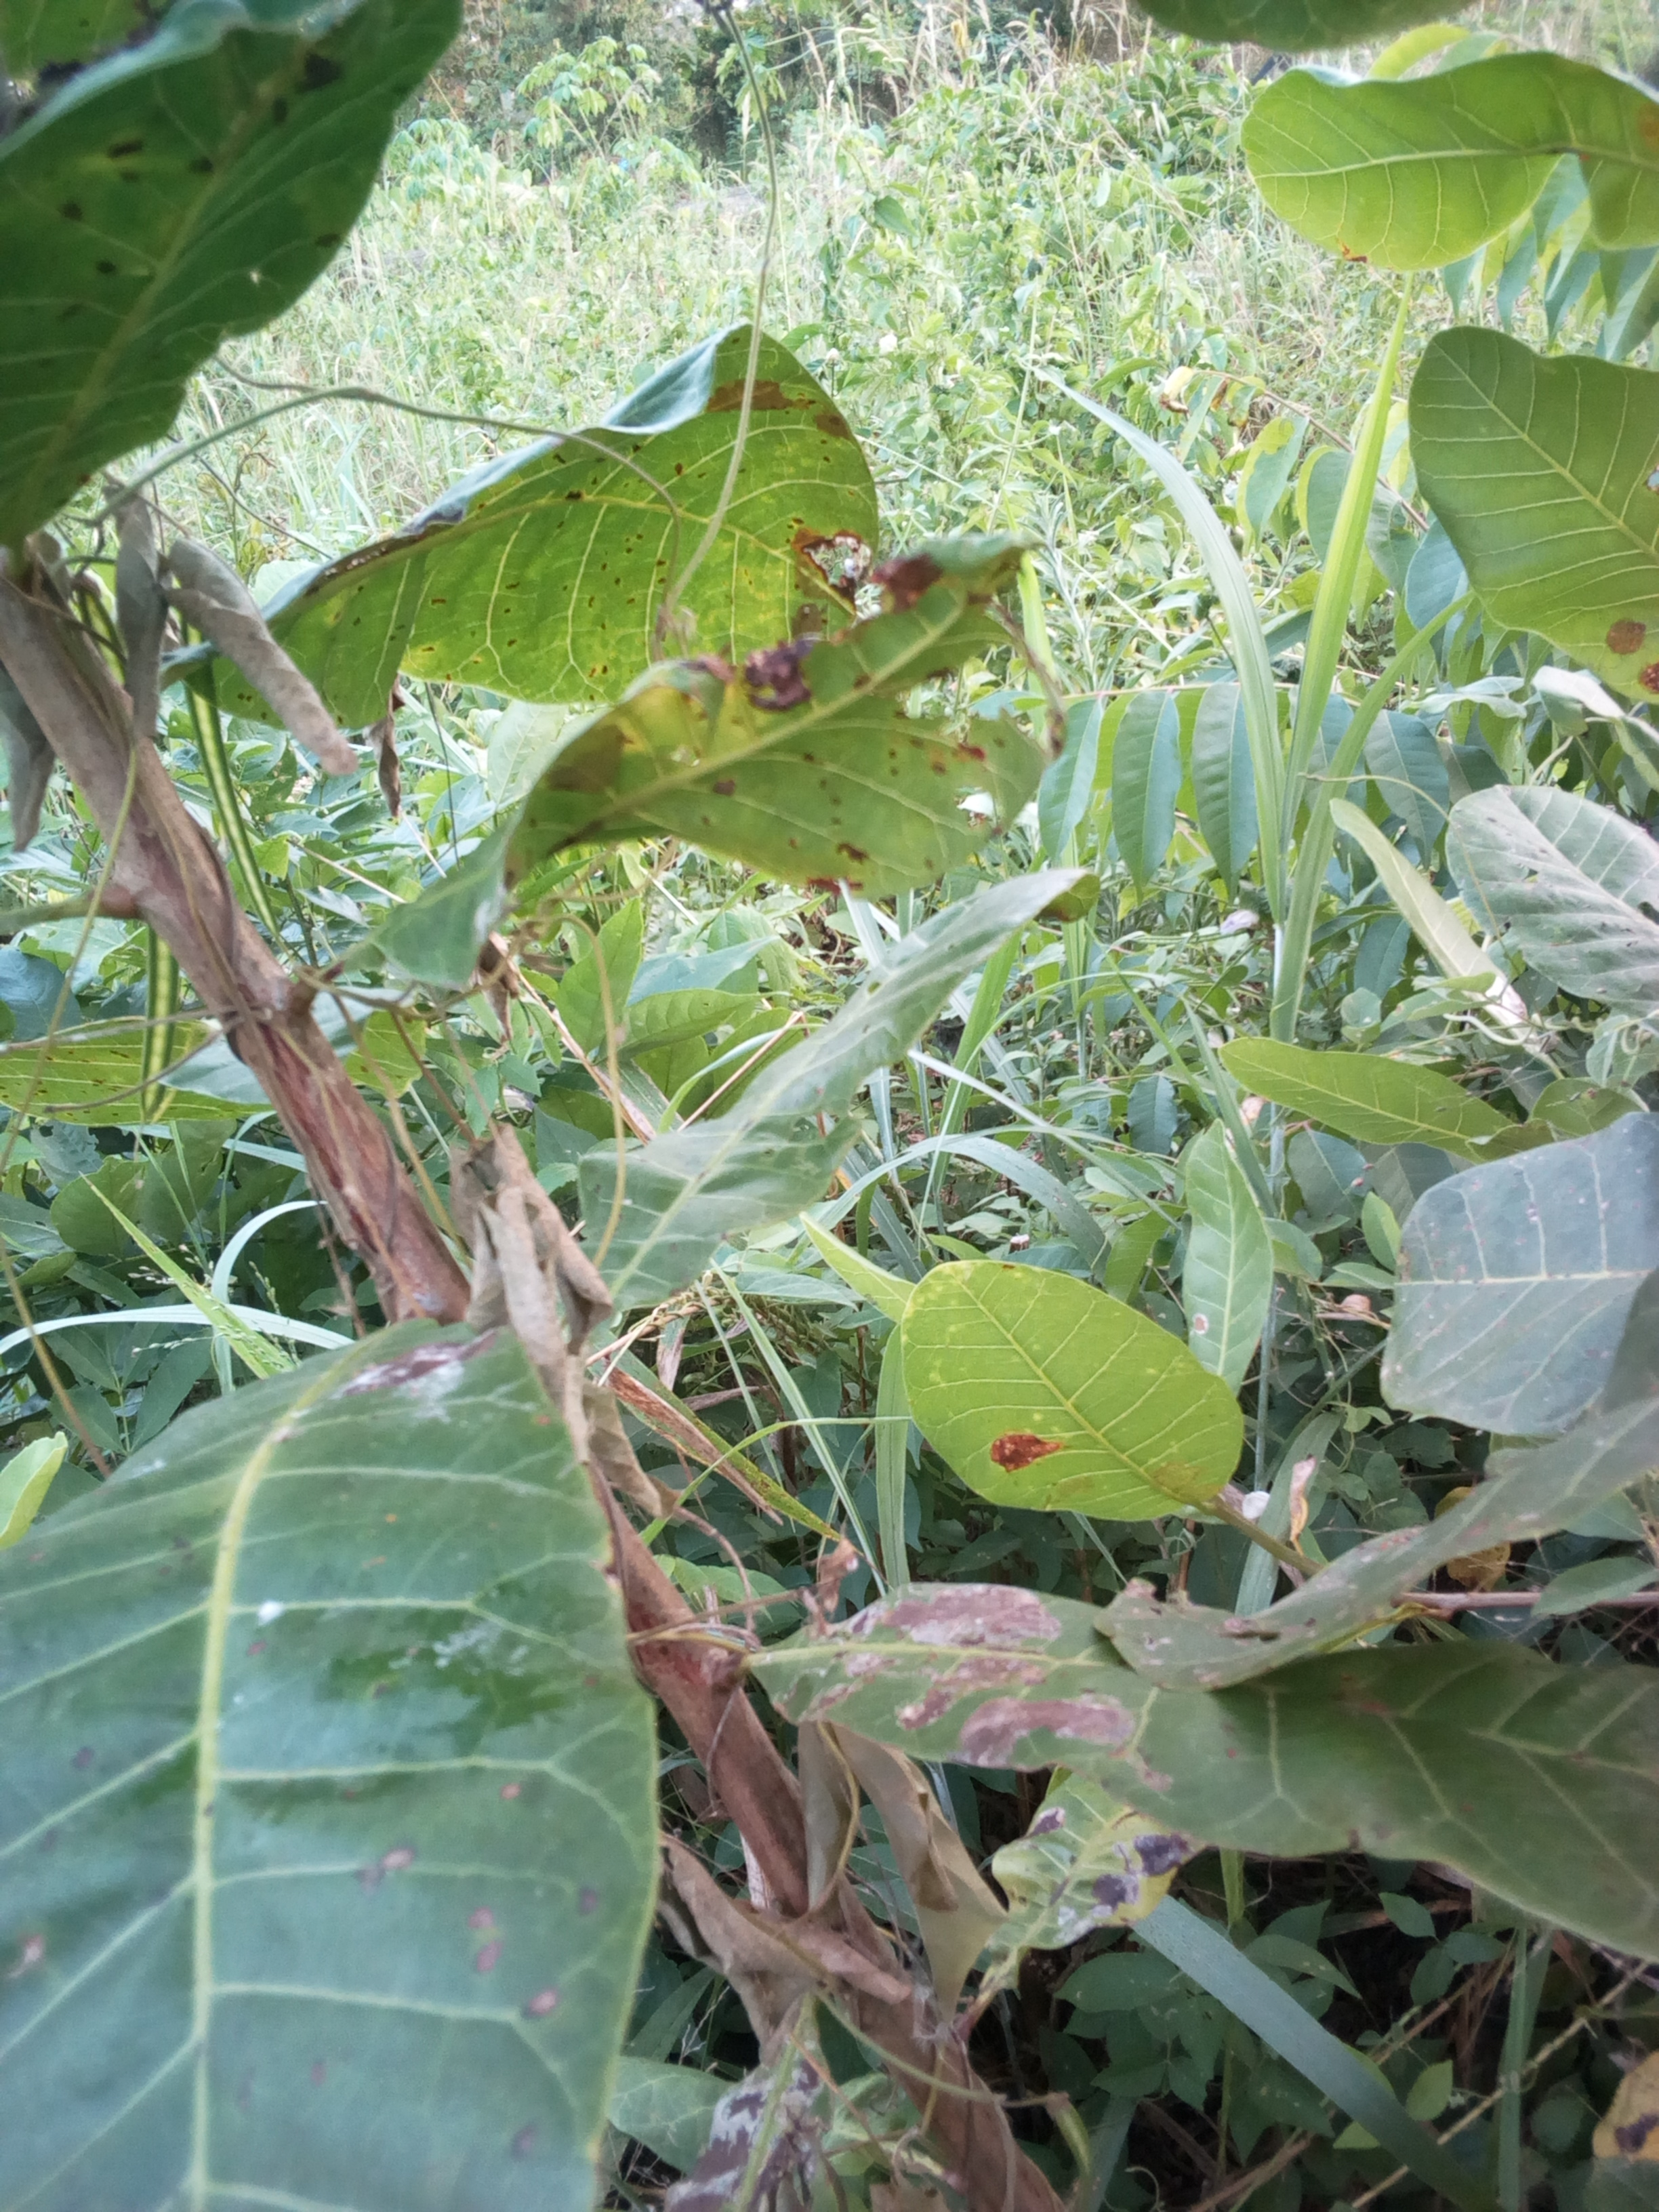Pestalotiose: (308, 378, 911, 655)
